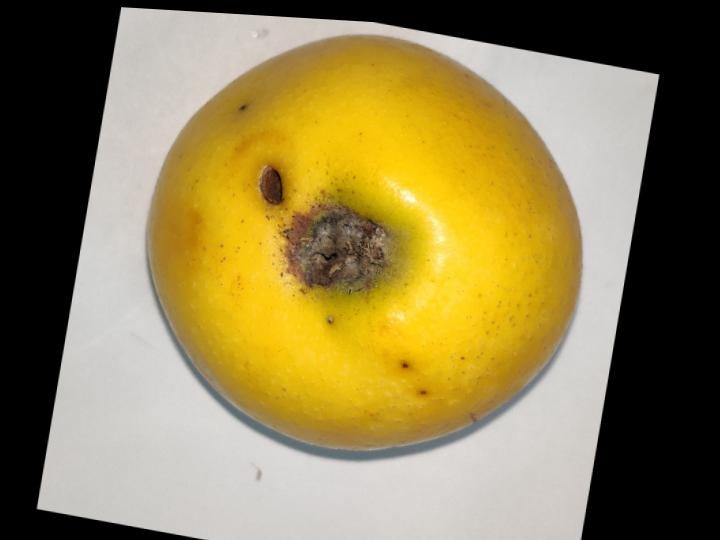apple: (149, 34, 582, 450)
surface_damage: (260, 165, 283, 204)
